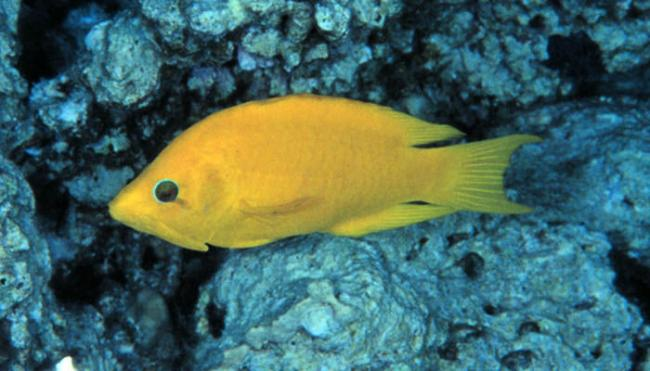fish: (107, 93, 544, 252)
